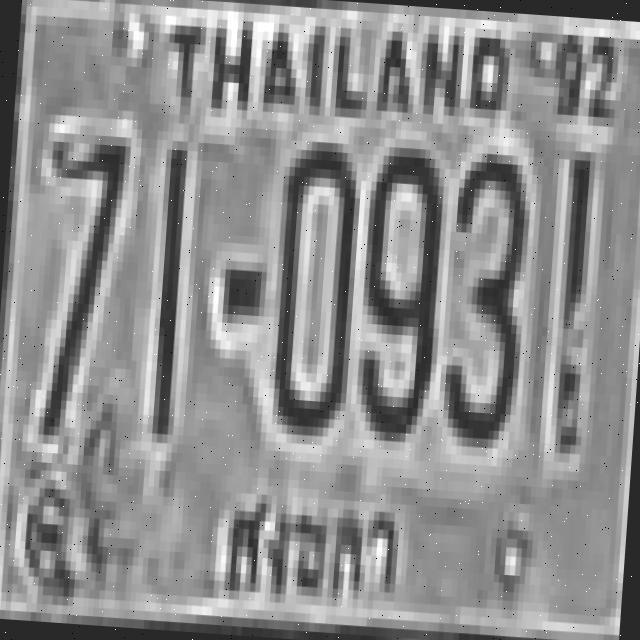0: (266, 130, 359, 428)
1: (144, 140, 190, 434)
3: (436, 142, 529, 440)
7: (34, 123, 126, 430)
9: (351, 136, 444, 434)
Songkhla: (220, 475, 409, 607)
